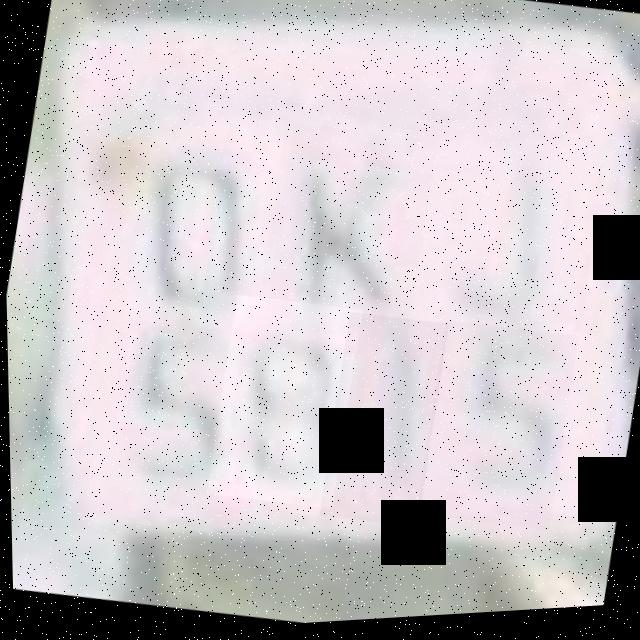1: (313, 311, 451, 536)
5: (410, 319, 580, 543), (82, 280, 252, 500)
8: (200, 291, 364, 518)
N: (258, 120, 440, 354)
O: (118, 102, 289, 342)
